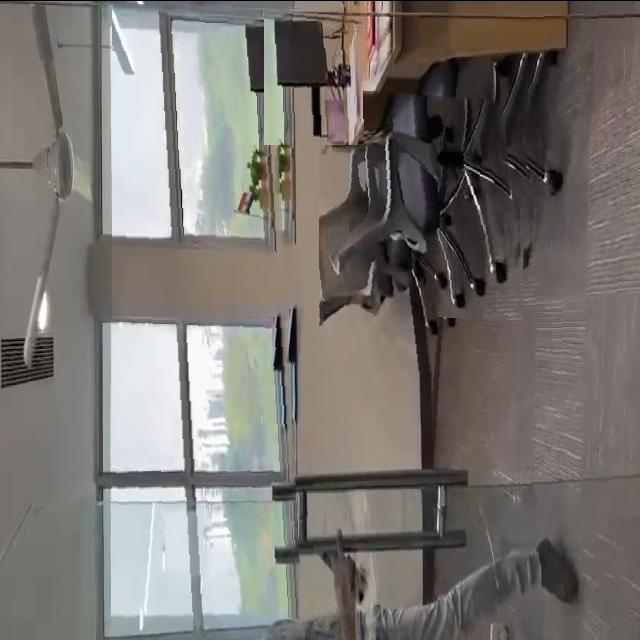floor: (512, 0, 640, 640), (426, 316, 526, 469)
furniture: (319, 84, 532, 370), (264, 8, 364, 144)
wall: (112, 0, 303, 618)
